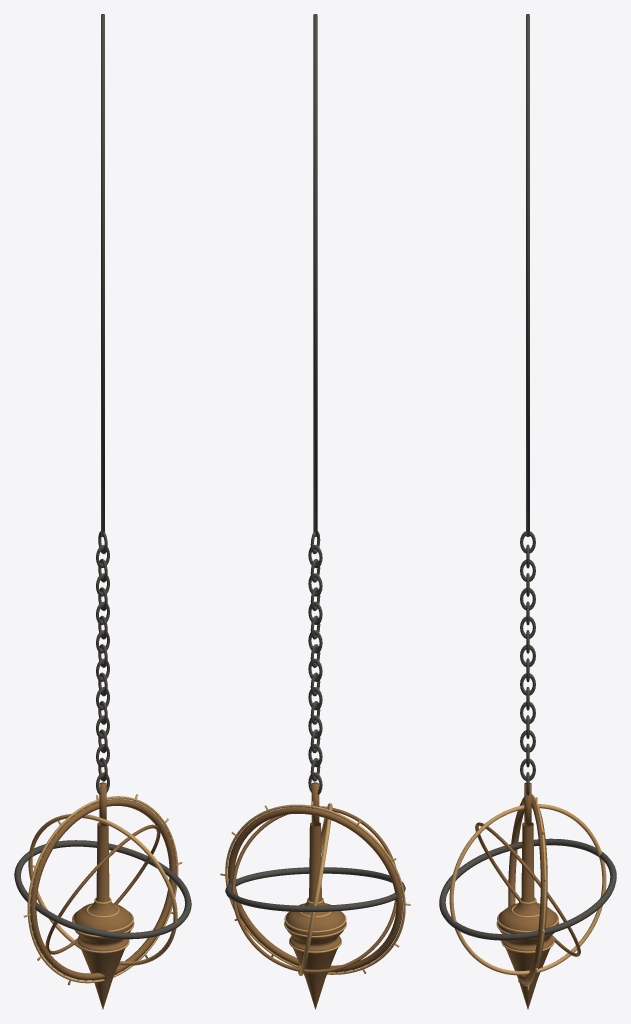
Rendered from meridian.glb.
3 views of the same model, side by side, from view 1: azimuth 30°, elevation 25°; view 2: azimuth 150°, elevation 25°; view 3: azimuth 270°, elevation 25° (orthographic).
Parts seen in each view (by area): view 1: meridian; view 2: meridian; view 3: meridian.
Part boxes in pixels (left/top/right/bottom): meridian: left=14, top=14, right=191, bottom=1009; meridian: left=220, top=14, right=410, bottom=1009; meridian: left=439, top=14, right=616, bottom=1009.
Bounding box in the file's own units: 4.98 × 27.3 × 4.41.
